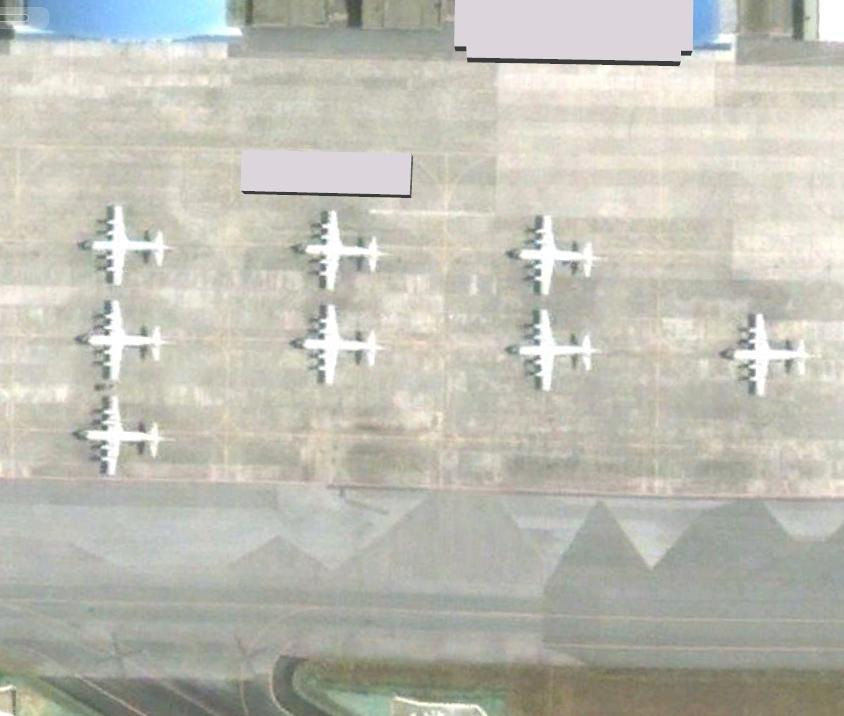A9: (71, 197, 186, 290), (70, 288, 185, 381), (69, 383, 184, 476), (285, 200, 399, 293), (284, 294, 398, 387), (497, 209, 611, 302), (500, 298, 614, 391), (713, 307, 827, 400)
